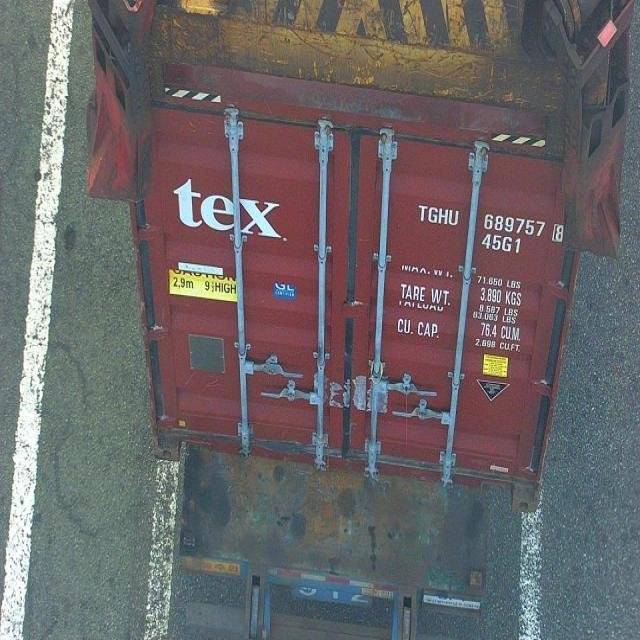ISO: (480, 234, 523, 258)
container_number: (419, 193, 564, 244)
